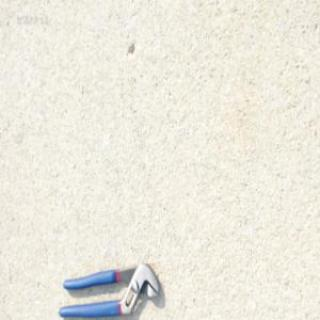Pliertrack_idkeyframe: (56, 262, 161, 318)
